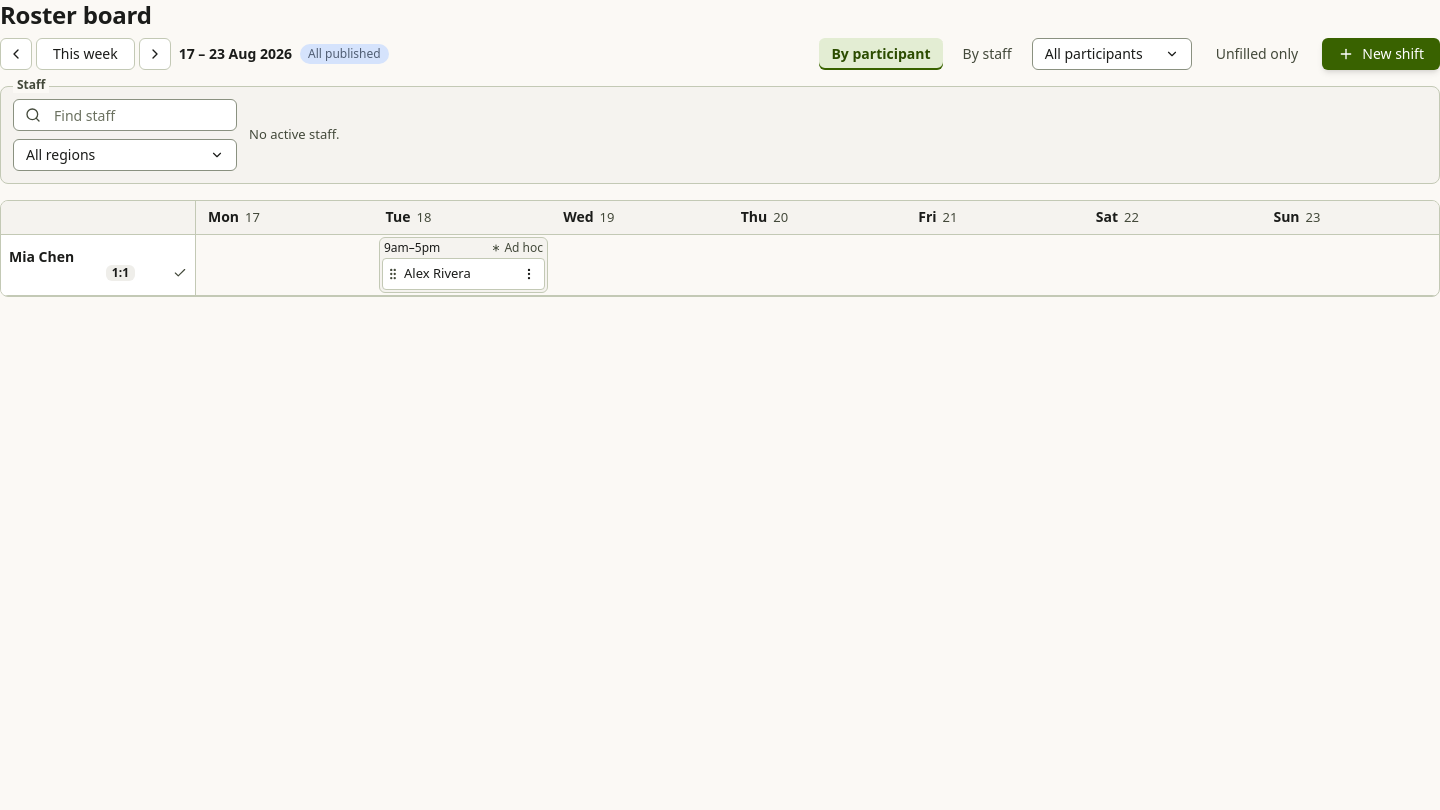
Scenario: RosterBoardPage — an assign the server refuses is no longer swallowed › "Assign anyway": a 400 on the retry closes the dialog and shows the message on the page, with the full override body sent
Step 1. Click the button named "Actions for Mia Chen's shift" → (529,274), box top-left (517, 262), bottom-right (541, 286)
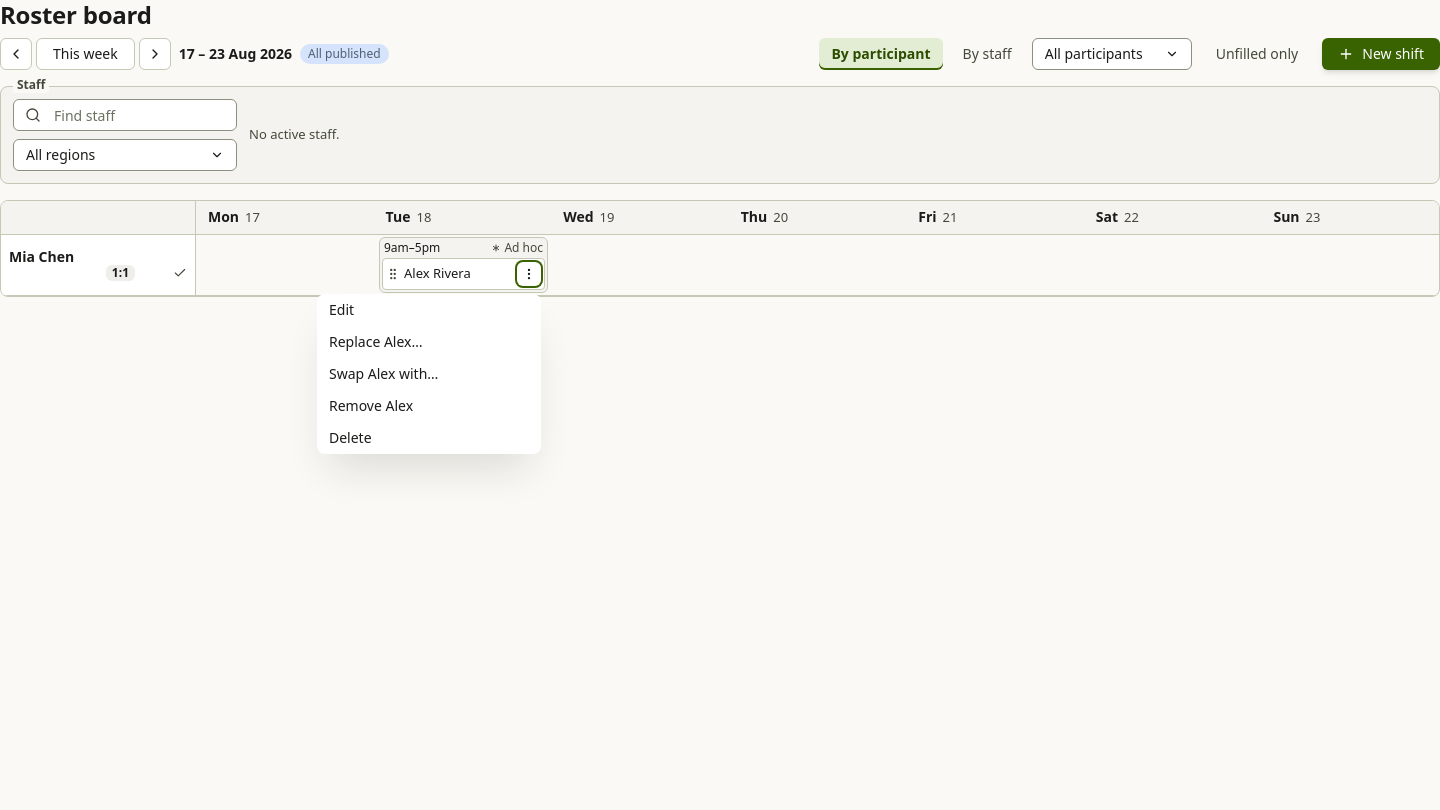
Step 2. Click the option "Remove Alex" → (371,405), box top-left (329, 396), bottom-right (413, 414)
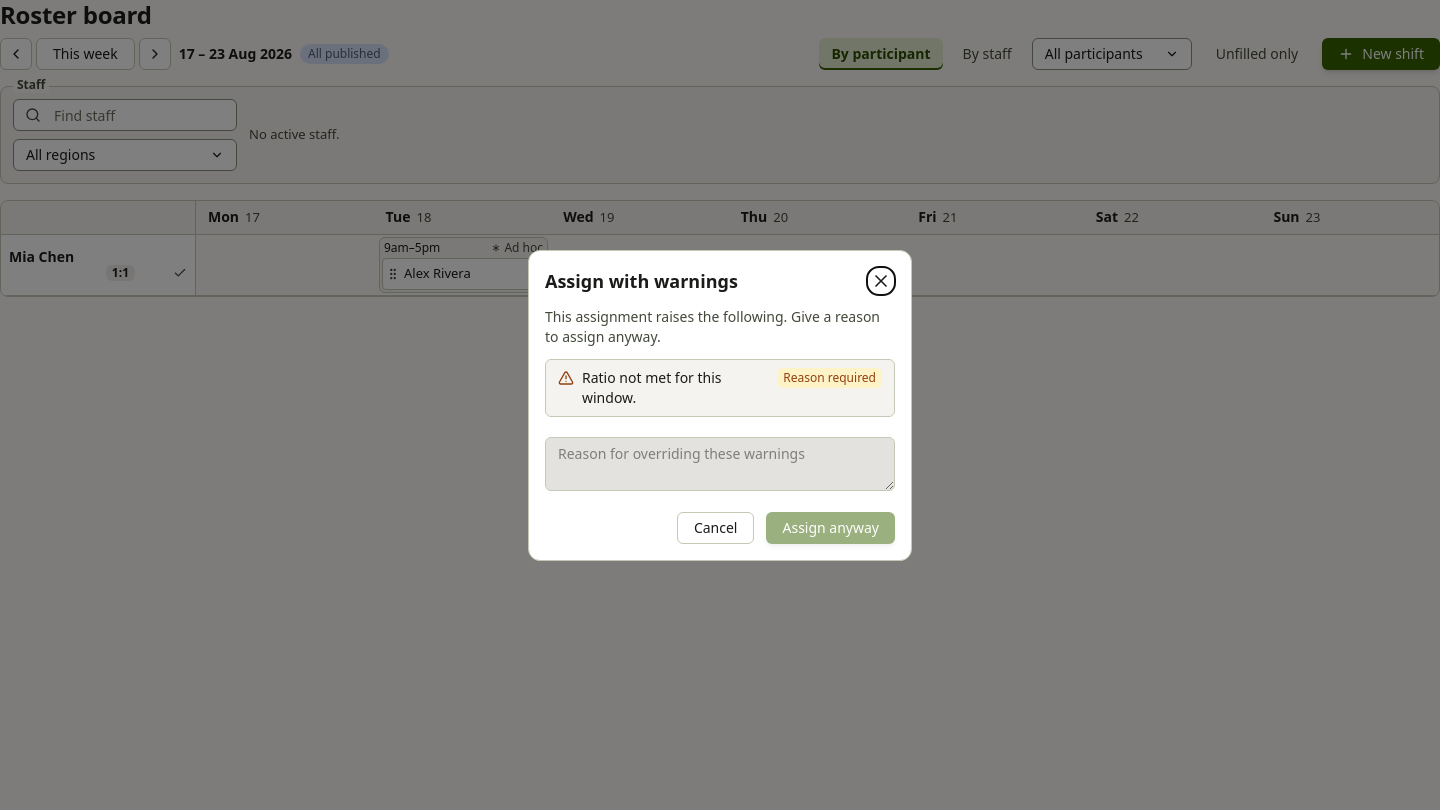
Now the text "Ratio not met for this window." is shown, box top-left (582, 368), bottom-right (722, 406)
Step 3. Type "Approved by the coordinator" into the text box with placeholder "Reason for overriding these warnings" → (720,464), box top-left (545, 436), bottom-right (895, 490)
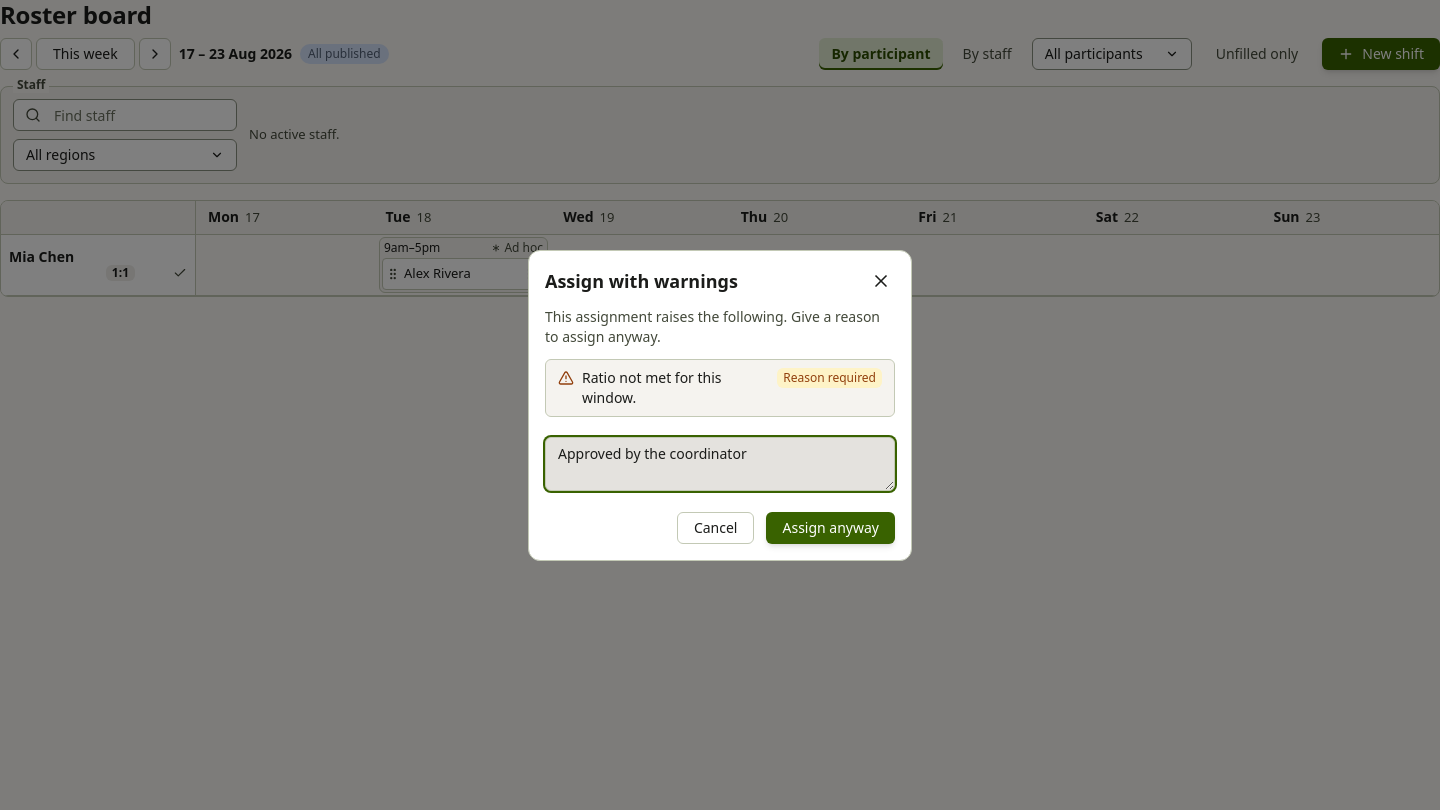
Step 4. Click the button "Assign anyway" → (831,528), box top-left (766, 512), bottom-right (895, 544)
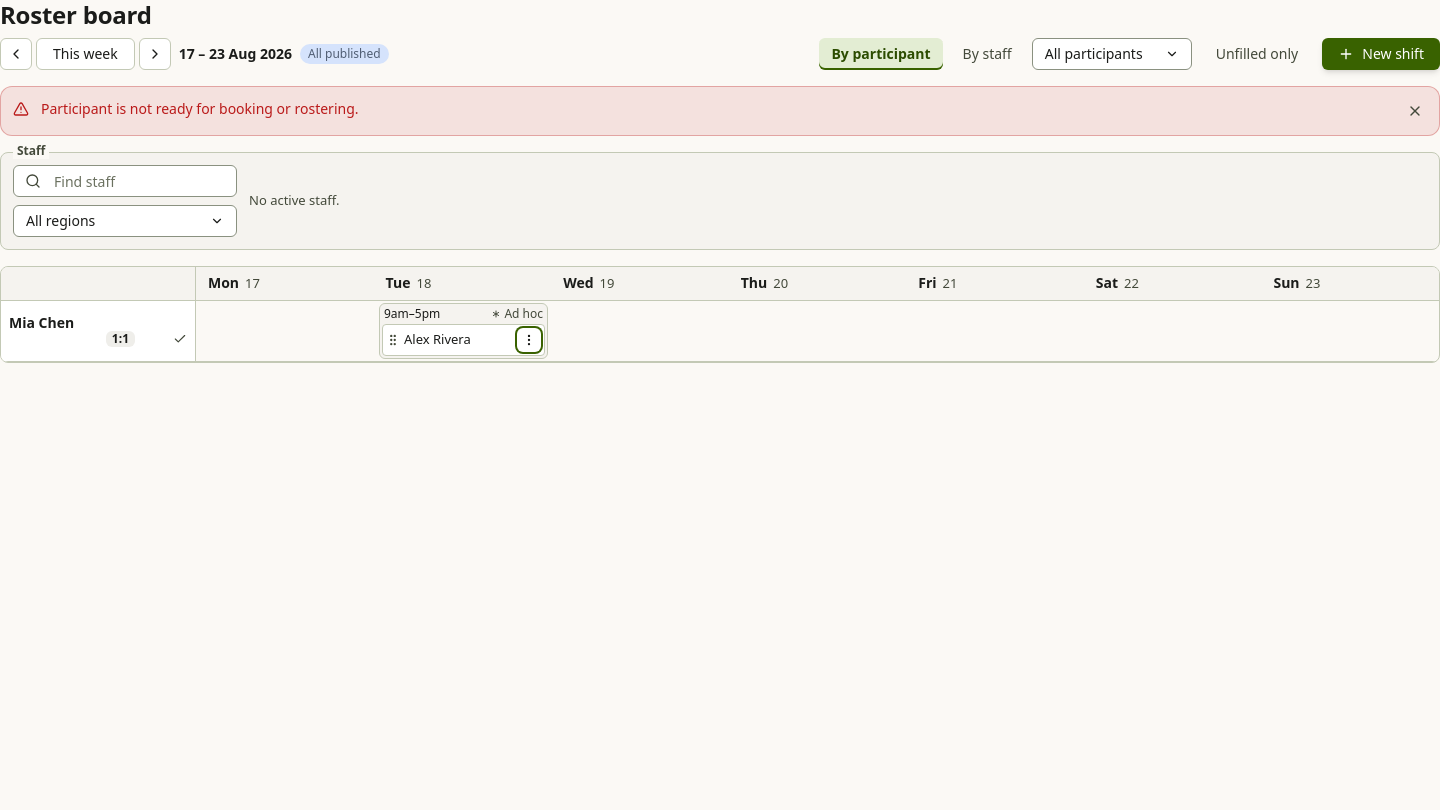
Now the text "Participant is not ready for booking or rostering." is shown, box top-left (41, 99), bottom-right (358, 118)
Now the dialog is gone
